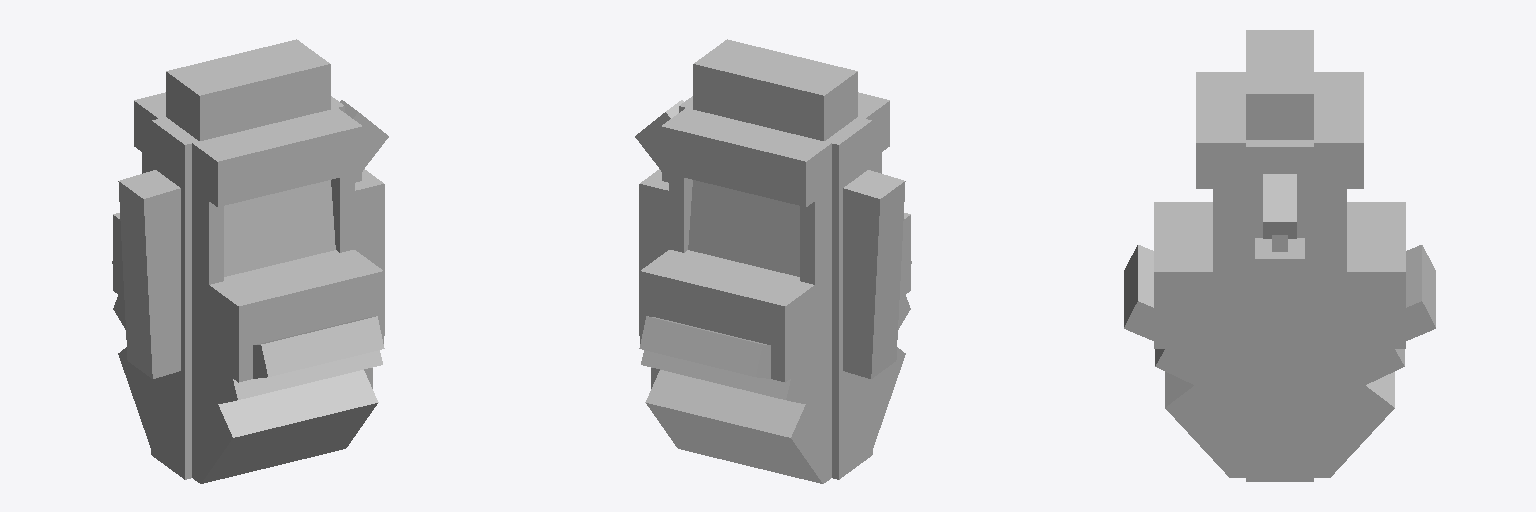
The model's file is dispenserlevel3.obj.
3 renders of one model, left to right at view 1: azimuth 30°, elevation 25°; view 2: azimuth 150°, elevation 25°; view 3: azimuth 270°, elevation 25°, orthographic.
Parts seen in each view (by area): view 1: boxtop, screenbox, boxbottom, screentop, ammochain, support, screen, boxmiddle, tube, gauge; view 2: boxtop, screenbox, boxbottom, screentop, ammochain, support, screen, boxmiddle, tube, gauge; view 3: boxtop, screenbox, support, tube, screentop, boxbottom, boxmiddle, gauge.
Boxes of the visible parts, box(x1,y1,x2,y2) form: boxtop: box(112, 213, 384, 382); screenbox: box(134, 92, 362, 284); boxbottom: box(118, 347, 378, 483); screentop: box(166, 39, 330, 140); ammochain: box(118, 170, 180, 378); support: box(150, 96, 344, 483); screen: box(224, 180, 335, 276); boxmiddle: box(113, 295, 382, 407); tube: box(355, 169, 384, 388); gauge: box(340, 100, 388, 182); boxtop: box(639, 213, 911, 382); screenbox: box(661, 92, 889, 284); boxbottom: box(645, 347, 905, 483); screentop: box(693, 39, 857, 140); ammochain: box(843, 170, 905, 378); support: box(679, 96, 873, 483); screen: box(688, 180, 799, 276); boxmiddle: box(641, 295, 910, 407); tube: box(639, 169, 668, 388); gauge: box(635, 100, 683, 182); boxtop: box(1124, 202, 1435, 348); screenbox: box(1196, 72, 1363, 271); support: box(1230, 140, 1329, 481); tube: box(1255, 238, 1304, 468); screentop: box(1246, 30, 1313, 139); boxbottom: box(1165, 372, 1394, 477); boxmiddle: box(1155, 349, 1404, 401); gauge: box(1263, 174, 1296, 251).
Size of the model in its own units: 1.07 by 1.56 by 1.16.